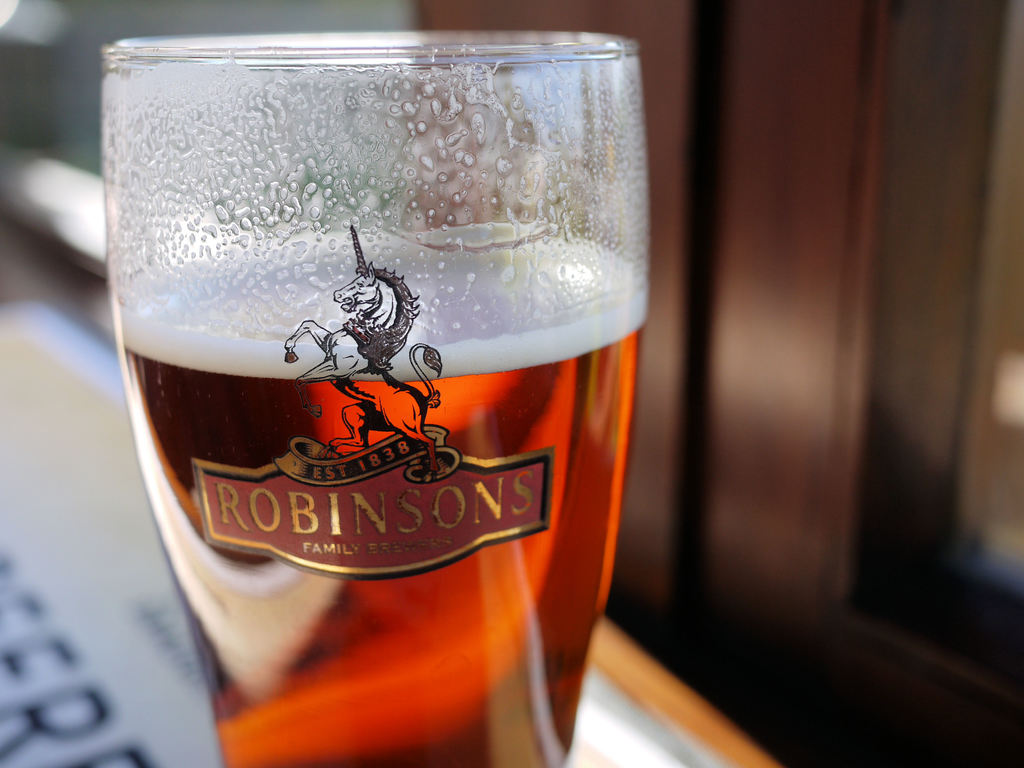Beer: (113, 240, 643, 767)
